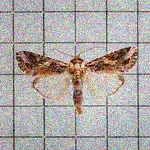Spodoptera litura: (15, 46, 139, 116)
